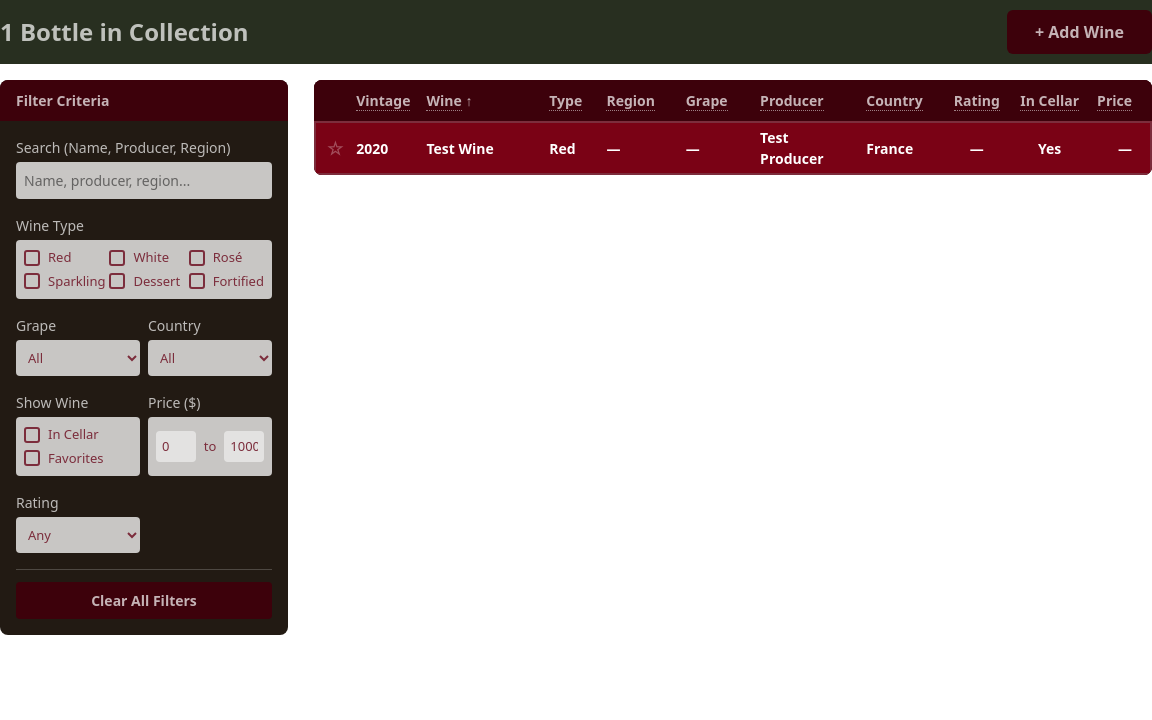
it: Home Page - Wine Cellar › Delete Confirmation Modal › closes delete confirmation when Cancel is clicked
This screenshot has width=1152, height=720.
Expected: the text "Test Wine" is shown, [418, 121, 541, 175]
Note: Open detail modal
Click the text "Test Wine" at (733, 148), box [314, 121, 1151, 175]
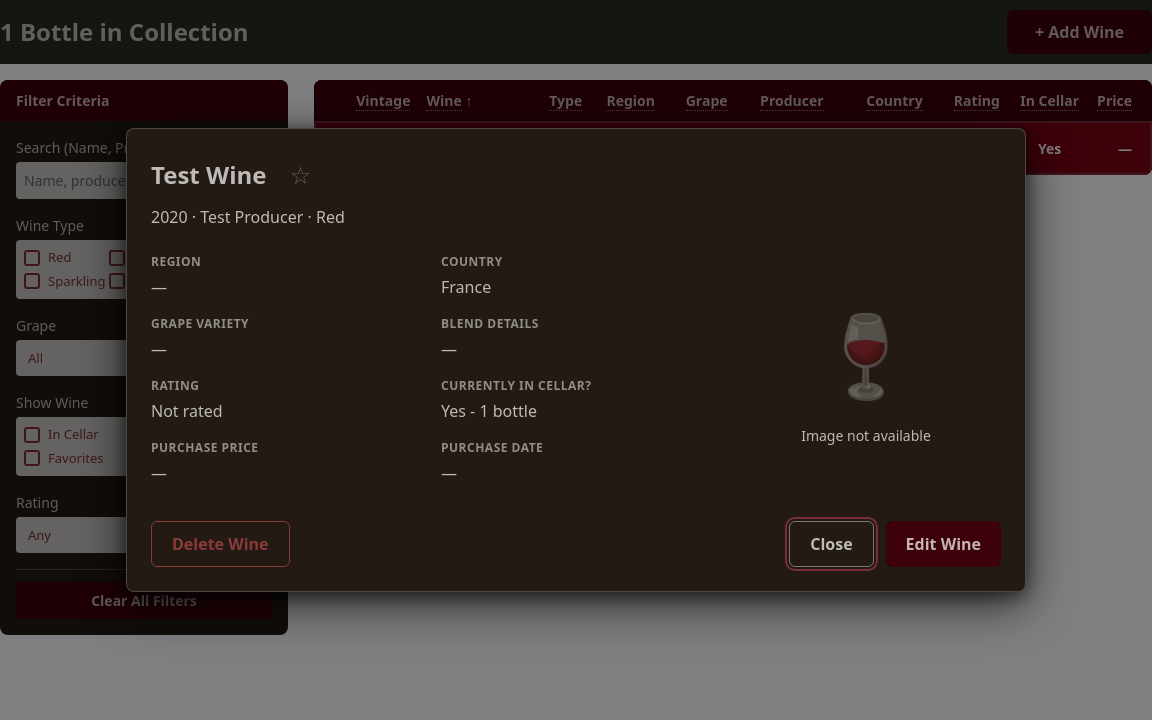
Expected: the button "Delete Wine" is shown
Note: Click Delete Wine
Click the button "Delete Wine" at (220, 544), box [151, 521, 290, 567]
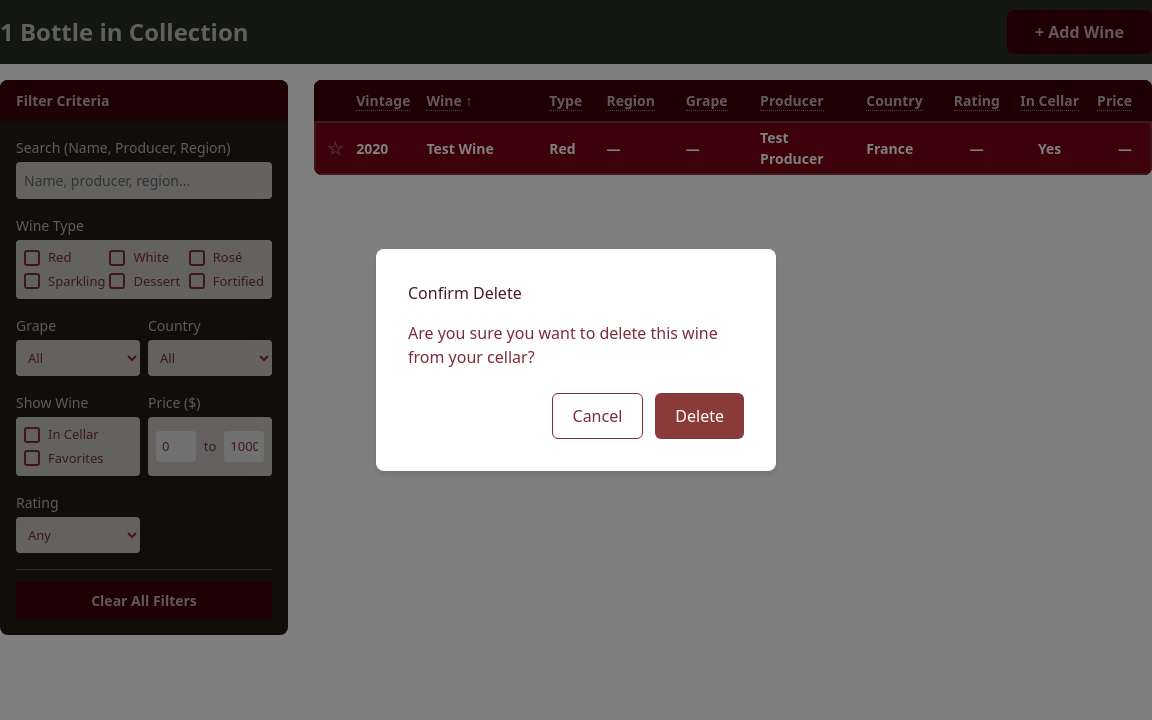
Expected: the heading "Confirm Delete" is shown, [408, 282, 522, 304]
Note: Click Cancel
Click the button "Cancel" at (597, 416), box [552, 393, 643, 439]
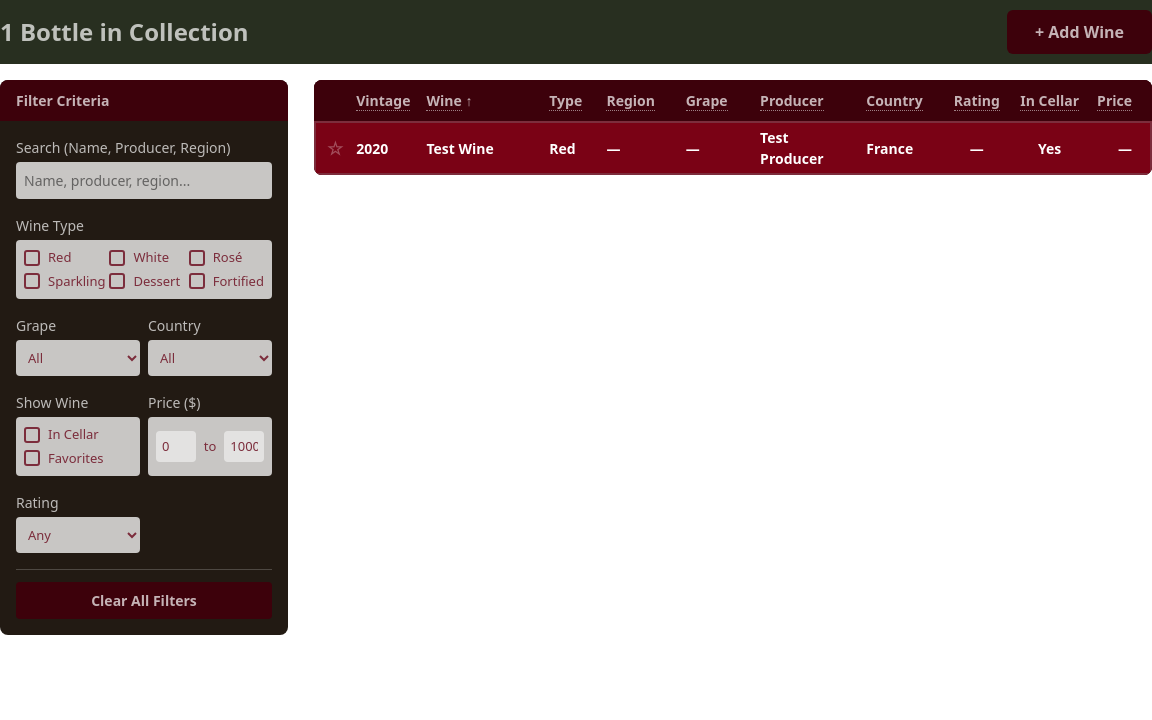
Expected: the heading "Confirm Delete" is gone
